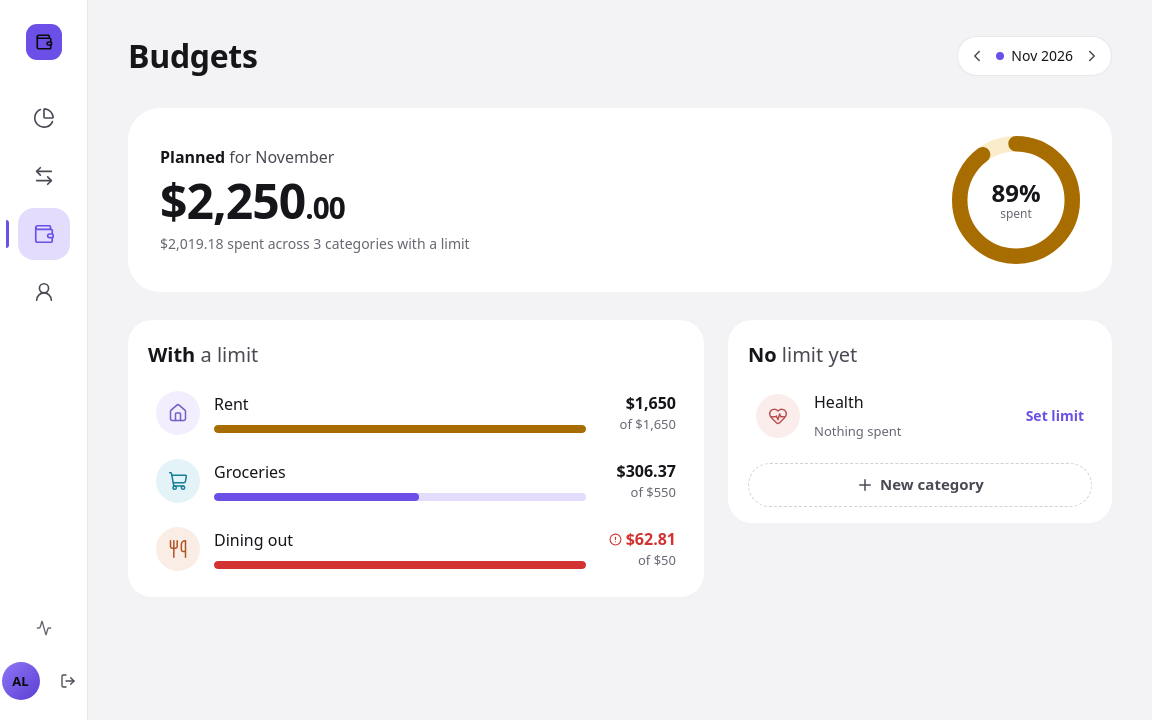
it: a limit of zero is refused before anything is sent
expect the element "Planned for November" is shown: met, box [128,108,1112,292]
Click the button with aria-label "Health:": (778, 416) [748,381,1092,451]
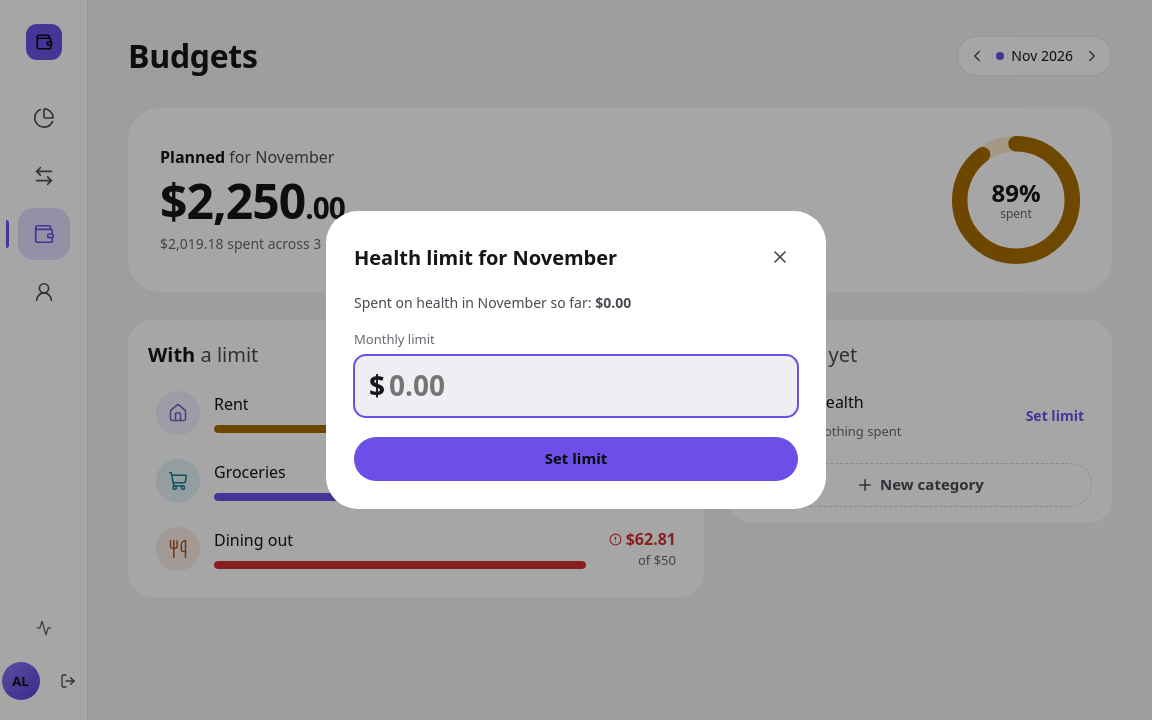
In the field labelled "Monthly limit": (593, 386) [389,356,797,416], type "0"
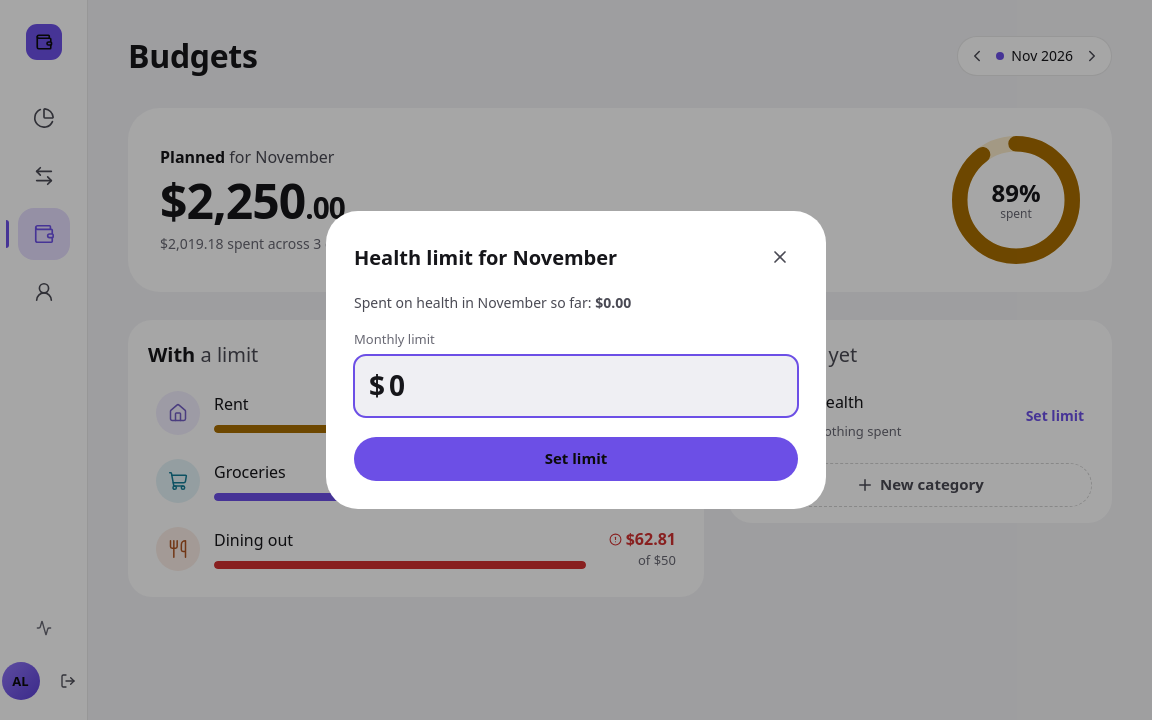
Click the button "Set limit": (576, 459) [354,437,798,481]
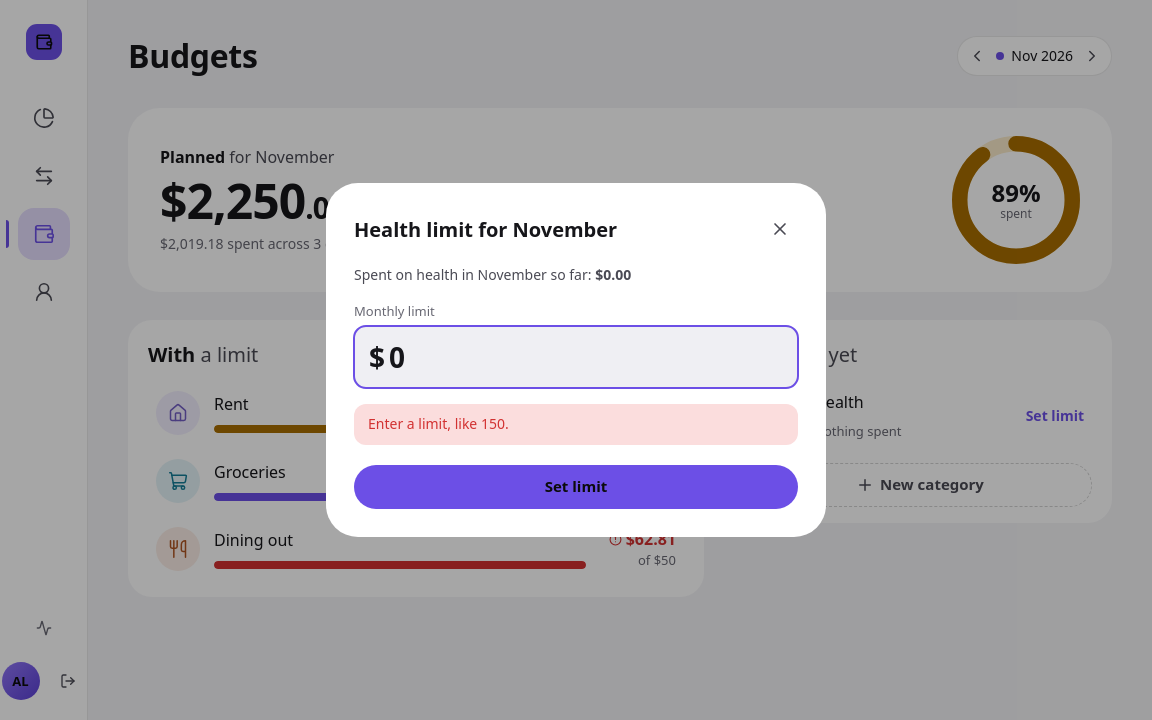
expect the message reads "Enter a limit, like 150.": met, box [368,414,509,433]
